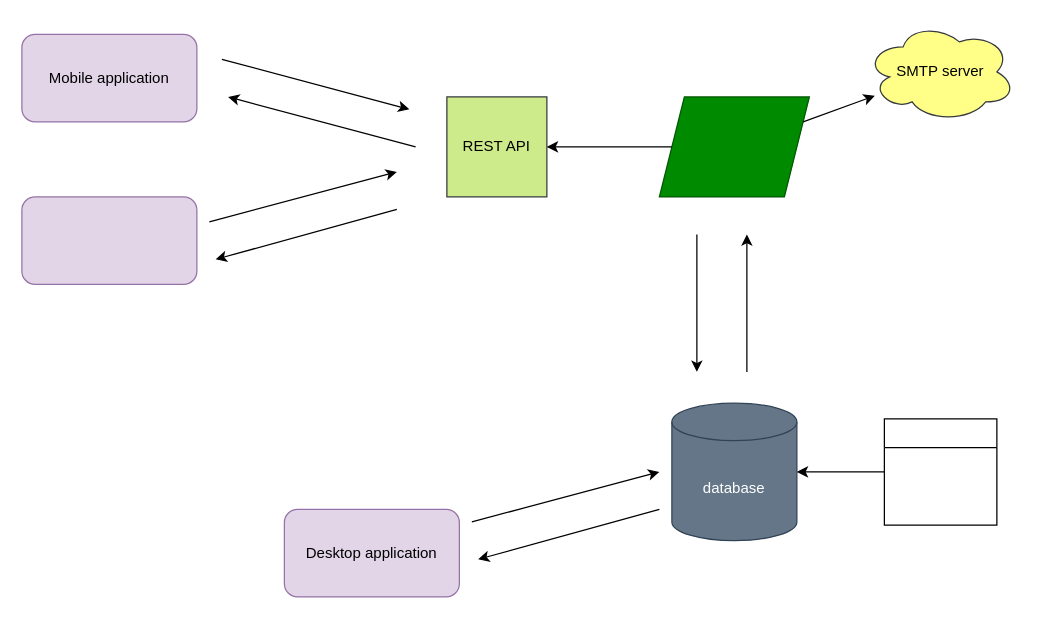
Some shapes in this 1038 by 619 pixel diagram are drawn without their labels. Each missing label, with the centre of its shape:
"backend application" goes at (733,146).
"Database data" goes at (940,471).
"Web application" goes at (109,240).
